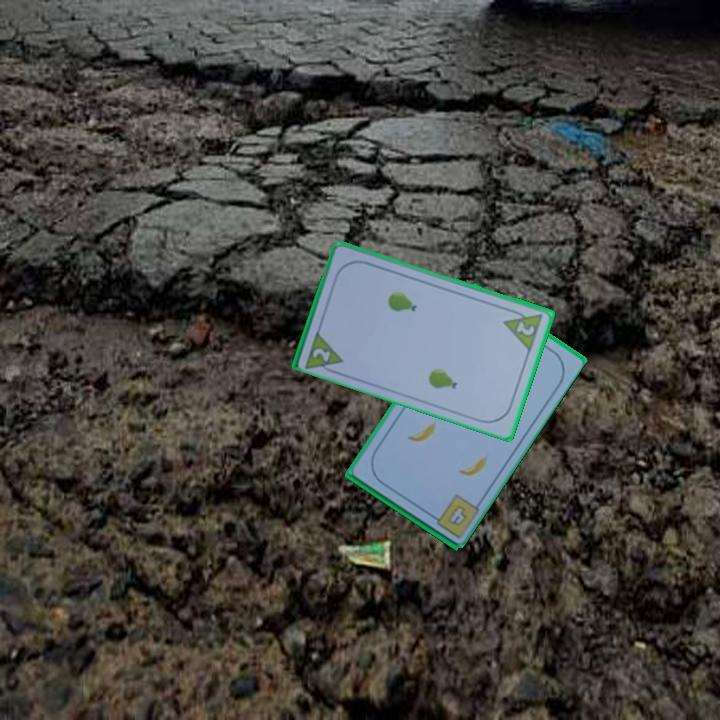2p: (513, 317, 538, 338), (309, 344, 334, 365)
4b: (444, 501, 470, 528)
